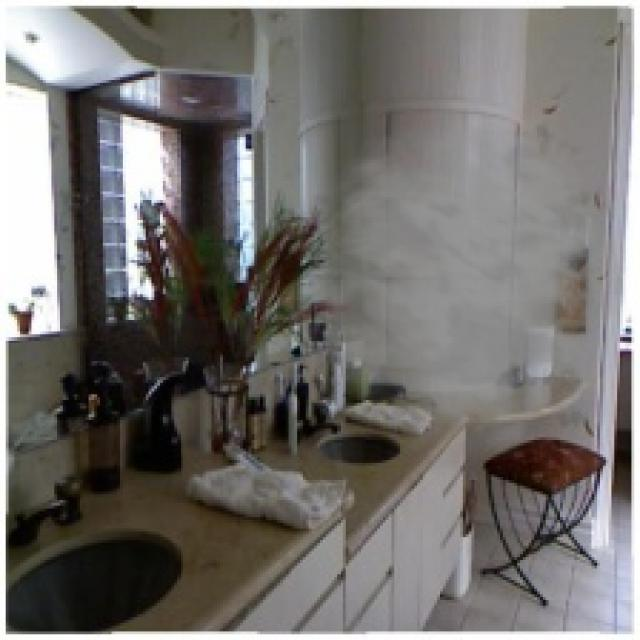smoke: (277, 109, 629, 460)
